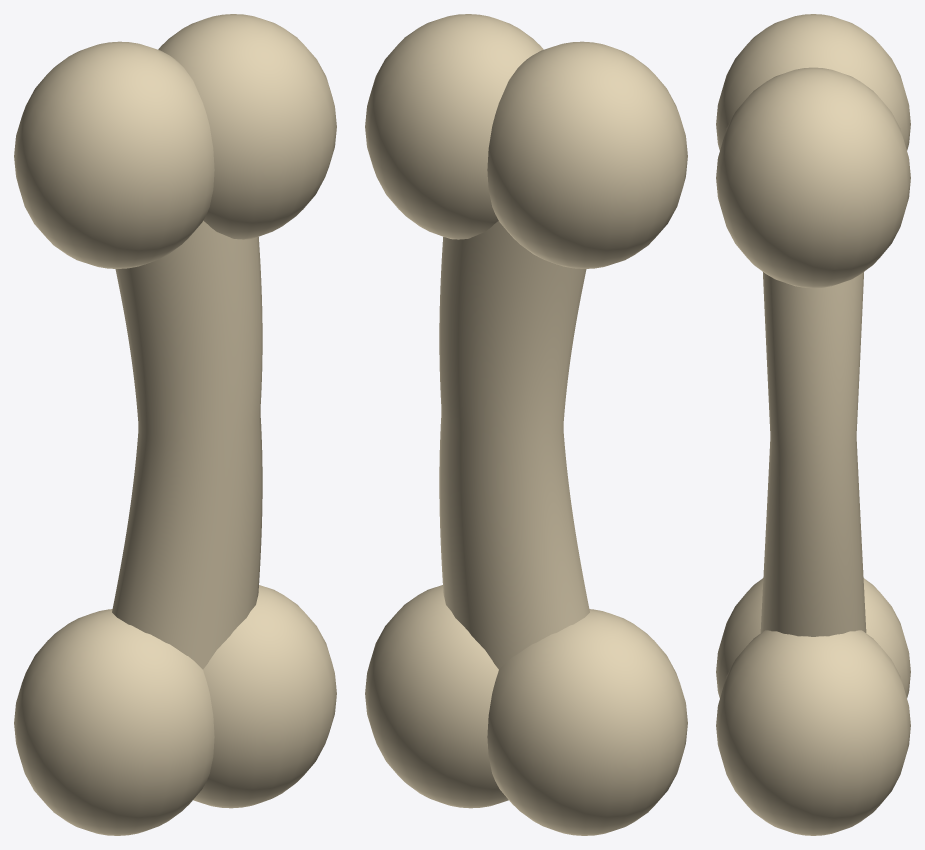
Rendered from bone.glb.
The picture shows the model from 3 angles, left to right: view 1: azimuth 30°, elevation 25°; view 2: azimuth 150°, elevation 25°; view 3: azimuth 270°, elevation 25°; orthographic projection. The views are drawn at different scales.
Parts seen in each view (by area): view 1: proximal, distal, shaft; view 2: proximal, distal, shaft; view 3: proximal, distal, shaft.
Boxes of the visible parts, x1,y1,x2,y2 form: proximal: [14, 14, 336, 268]; distal: [14, 585, 336, 835]; shaft: [112, 220, 262, 669]; proximal: [365, 14, 687, 268]; distal: [365, 585, 687, 835]; shaft: [439, 220, 589, 669]; proximal: [716, 14, 910, 288]; distal: [716, 578, 910, 835]; shaft: [760, 272, 866, 636].
Bounding box in the file's own units: 0.68 × 1.7 × 0.4.
